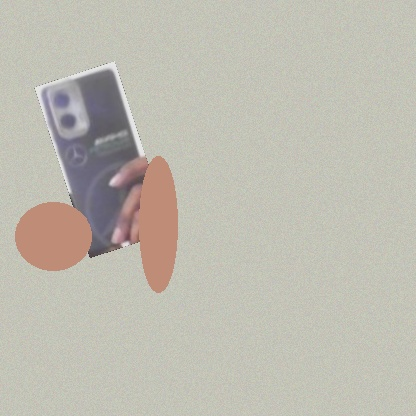cell_phone: (34, 61, 170, 258)
